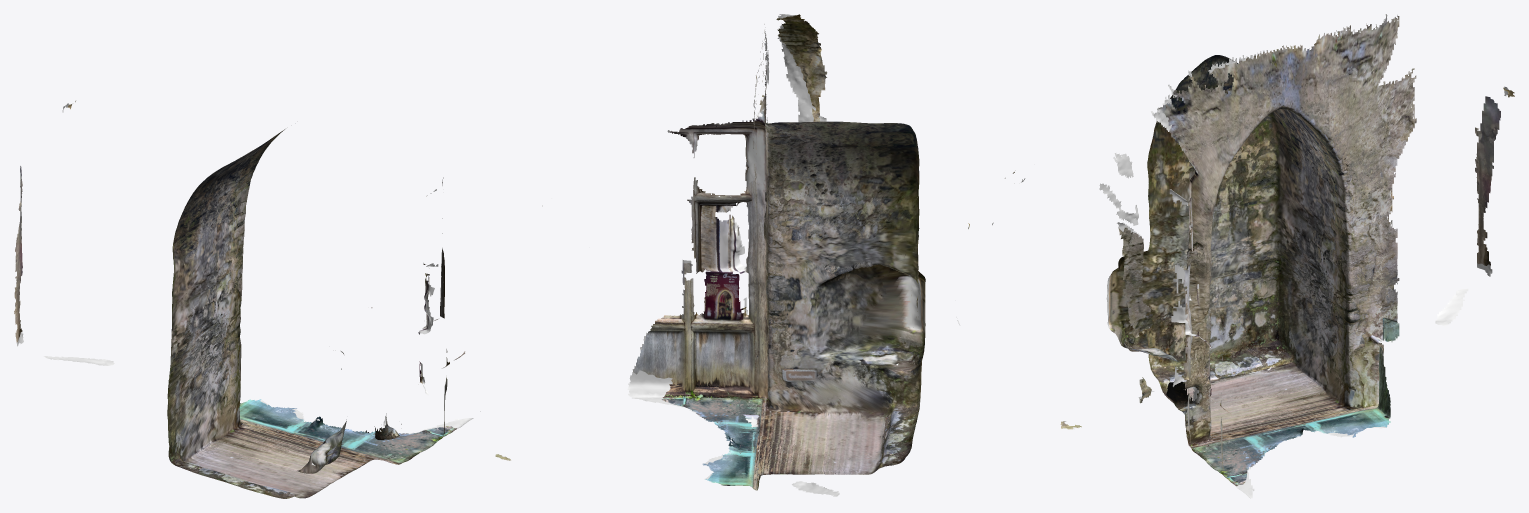
3 renders of one model, left to right at view 1: azimuth 30°, elevation 25°; view 2: azimuth 150°, elevation 25°; view 3: azimuth 270°, elevation 25°, orthographic. The views are drawn at different scales.
Parts seen in each view (by area): view 1: texture_3, texture_4, texture_0, texture_2, texture_1, object 1; view 2: texture_1, texture_0, texture_2, texture_3, object 1, texture_4; view 3: texture_0, texture_3, texture_4, texture_1, texture_2, object 1.
Part boxes in pixels (left/top/right/bottom): texture_3: left=167, top=326, right=456, bottom=498; texture_4: left=14, top=101, right=296, bottom=498; texture_0: left=172, top=129, right=443, bottom=323; texture_2: left=180, top=349, right=510, bottom=498; texture_1: left=168, top=248, right=506, bottom=498; object 1: left=16, top=103, right=505, bottom=465; texture_1: left=691, top=14, right=925, bottom=474; texture_0: left=669, top=30, right=919, bottom=318; texture_2: left=633, top=257, right=891, bottom=477; texture_3: left=661, top=344, right=910, bottom=490; object 1: left=627, top=14, right=917, bottom=496; texture_4: left=757, top=261, right=920, bottom=470; texture_0: left=1119, top=14, right=1416, bottom=320; texture_3: left=1161, top=260, right=1399, bottom=486; texture_4: left=1151, top=87, right=1514, bottom=390; texture_1: left=968, top=151, right=1384, bottom=427; texture_2: left=1061, top=311, right=1373, bottom=473; object 1: left=955, top=19, right=1508, bottom=498.
Size of the model in its own units: 4.6 by 5.01 by 6.5.
Materials: 6 (5 with a texture image).
